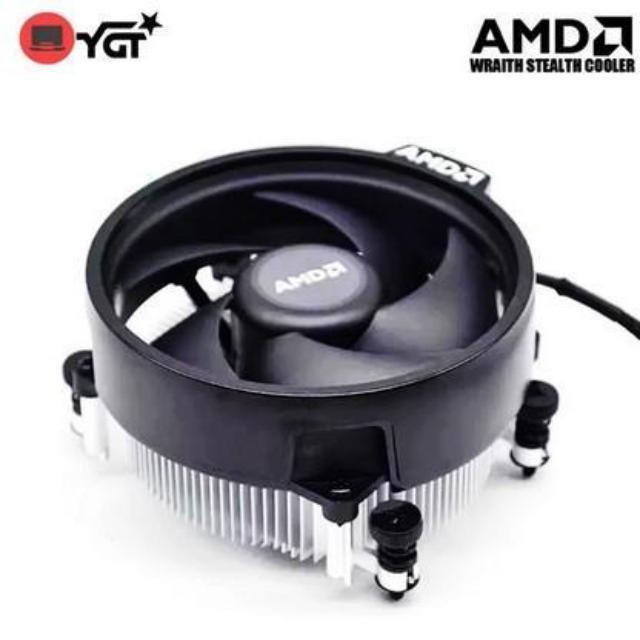CPU_Fan: (67, 131, 564, 598)
